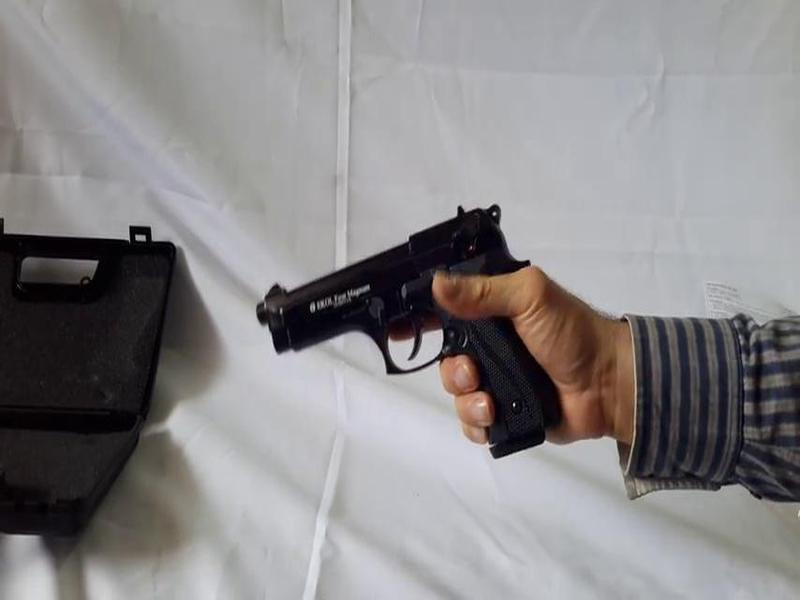Pistola: (235, 250, 555, 442)
